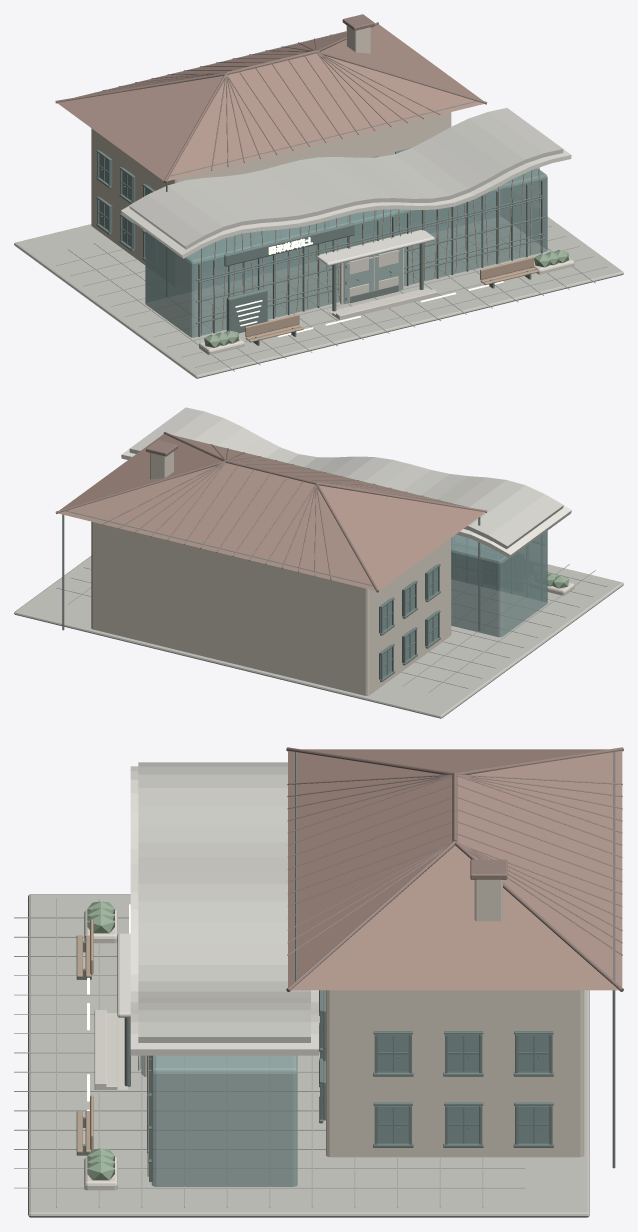
File: shanghai-orchestra.glb
3 renders of one model, top to bottom at view 1: azimuth 30°, elevation 25°; view 2: azimuth 150°, elevation 25°; view 3: azimuth 270°, elevation 25°, orthographic. The views are drawn at different scales.
Parts seen in each view (by area): view 1: shanghai-orchestra; view 2: shanghai-orchestra; view 3: shanghai-orchestra.
Boxes of the visible parts, box(x1,y1,x2,y2) form: shanghai-orchestra: box(14, 14, 623, 378); shanghai-orchestra: box(14, 407, 623, 718); shanghai-orchestra: box(14, 747, 623, 1217).
Size of the model in its own units: 27 by 10.48 by 21.71.
